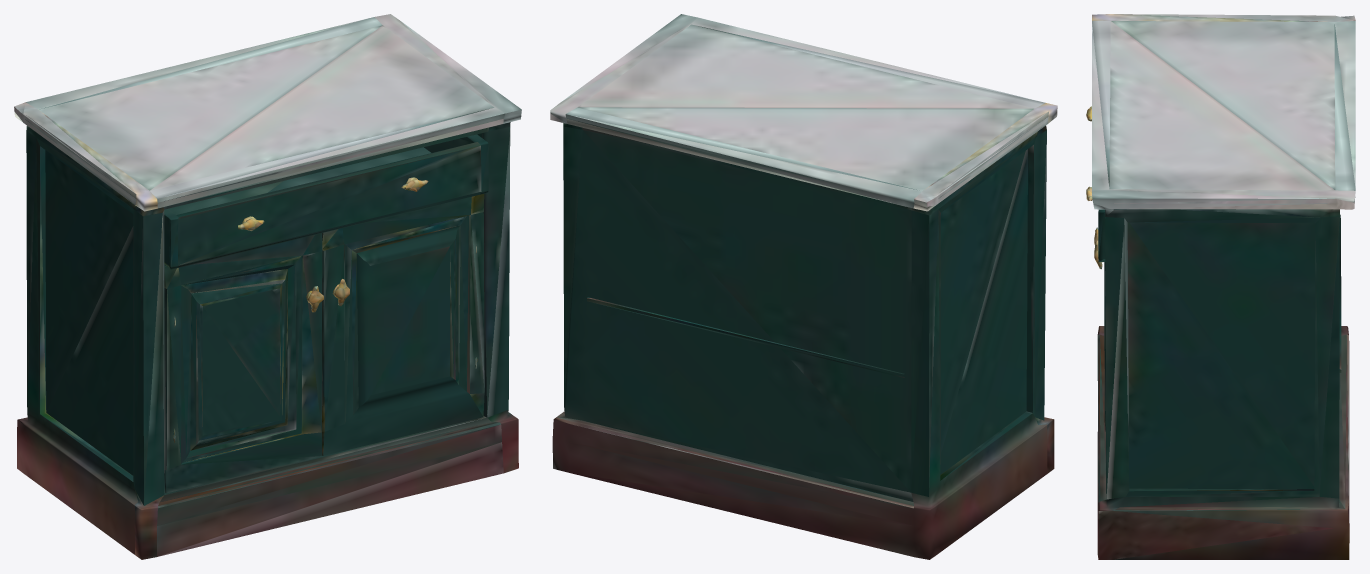
File: kitchen-counter.lod1.glb
3 renders of one model, left to right at view 1: azimuth 30°, elevation 25°; view 2: azimuth 150°, elevation 25°; view 3: azimuth 270°, elevation 25°, orthographic.
Size of the model in its own units: 1 by 0.92 by 0.6196.
1 material, 1 textured.
